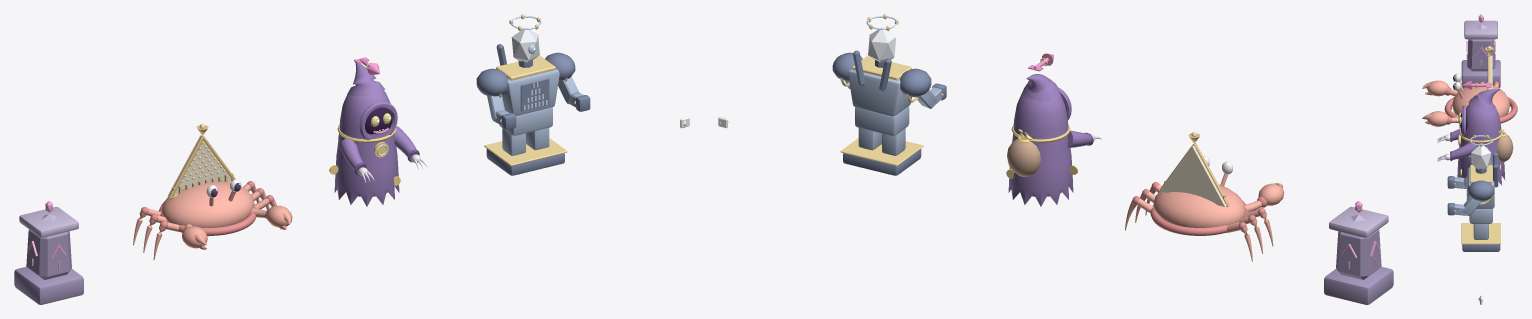
The model's file is rule_monsters.glb.
3 views of the same model, side by side, from view 1: azimuth 30°, elevation 25°; view 2: azimuth 150°, elevation 25°; view 3: azimuth 270°, elevation 25° (orthographic). The views are drawn at different scales.
Parts seen in each view (by area): view 1: warden_body, crab_body, ghoul_body, lair_post_m, armL, clawR, armR, clawL; view 2: warden_body, crab_body, ghoul_body, lair_post_m, clawL; view 3: warden_body, ghoul_body, lair_post_m, crab_body, clawL, clawR, armR, armL, arrow.
Boxes of the visible parts, left/top/right/bottom form: warden_body: left=476, top=14, right=590, bottom=175; crab_body: left=133, top=123, right=281, bottom=260; ghoul_body: left=329, top=59, right=400, bottom=206; lair_post_m: left=14, top=201, right=83, bottom=304; armL: left=339, top=138, right=374, bottom=182; clawR: left=251, top=205, right=292, bottom=229; armR: left=394, top=126, right=427, bottom=169; clawL: left=182, top=224, right=207, bottom=249; warden_body: left=832, top=14, right=946, bottom=175; crab_body: left=1125, top=132, right=1273, bottom=261; ghoul_body: left=1006, top=74, right=1078, bottom=206; lair_post_m: left=1324, top=201, right=1393, bottom=304; clawL: left=1245, top=183, right=1284, bottom=211; warden_body: left=1447, top=135, right=1500, bottom=251; ghoul_body: left=1457, top=88, right=1513, bottom=185; lair_post_m: left=1461, top=14, right=1500, bottom=88; crab_body: left=1444, top=46, right=1517, bottom=123; clawL: left=1422, top=80, right=1457, bottom=96; clawR: left=1422, top=111, right=1458, bottom=126; armR: left=1437, top=141, right=1476, bottom=161; armL: left=1437, top=129, right=1460, bottom=142; arrow: left=1462, top=80, right=1491, bottom=89.
Bounding box in the file's own units: 12.52 × 2.81 × 2.12.
